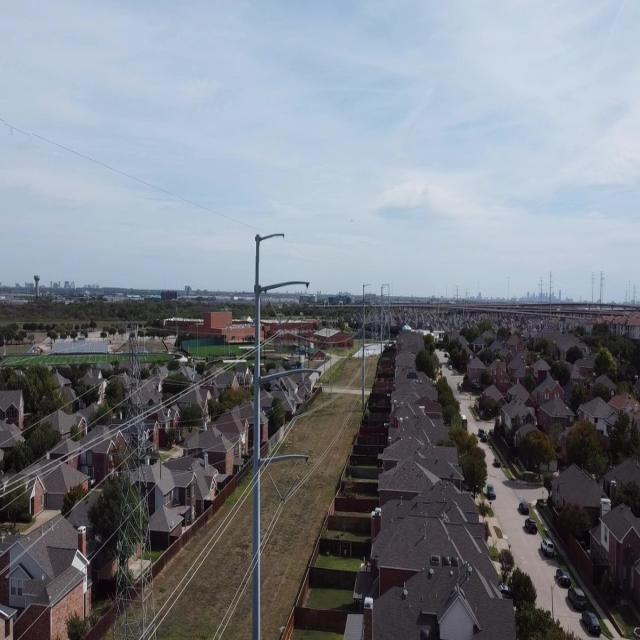杆塔: (111, 304, 157, 640)
正常绝缘子: (277, 469, 303, 511), (291, 386, 316, 422), (279, 296, 302, 333), (264, 465, 285, 505), (266, 294, 286, 333), (279, 382, 298, 418)
